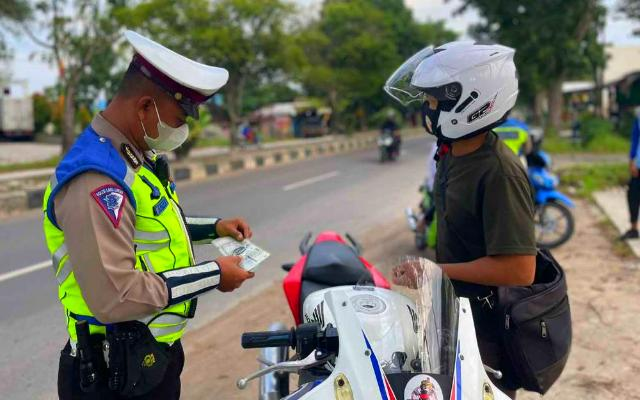helm: (384, 38, 522, 151)
motor: (238, 229, 519, 400)
